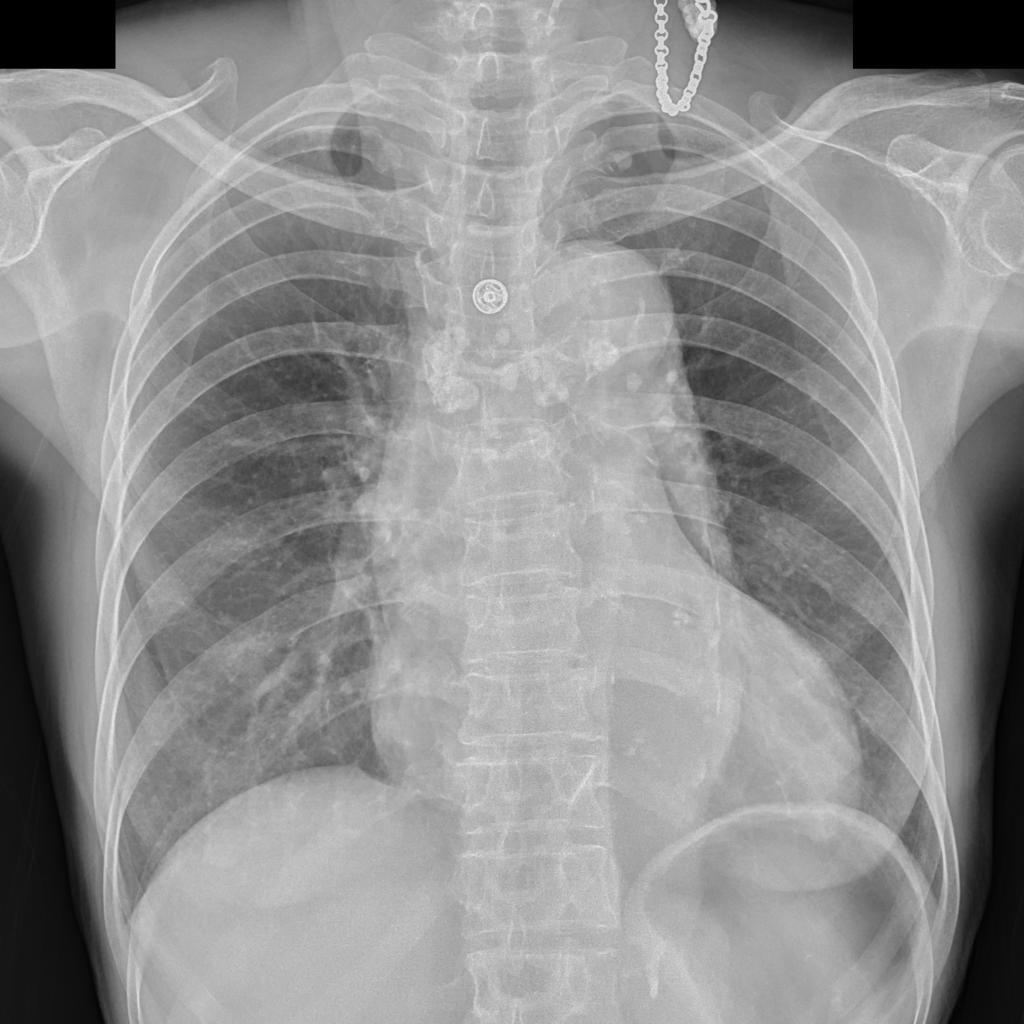Nodule: (608, 150, 634, 173)
